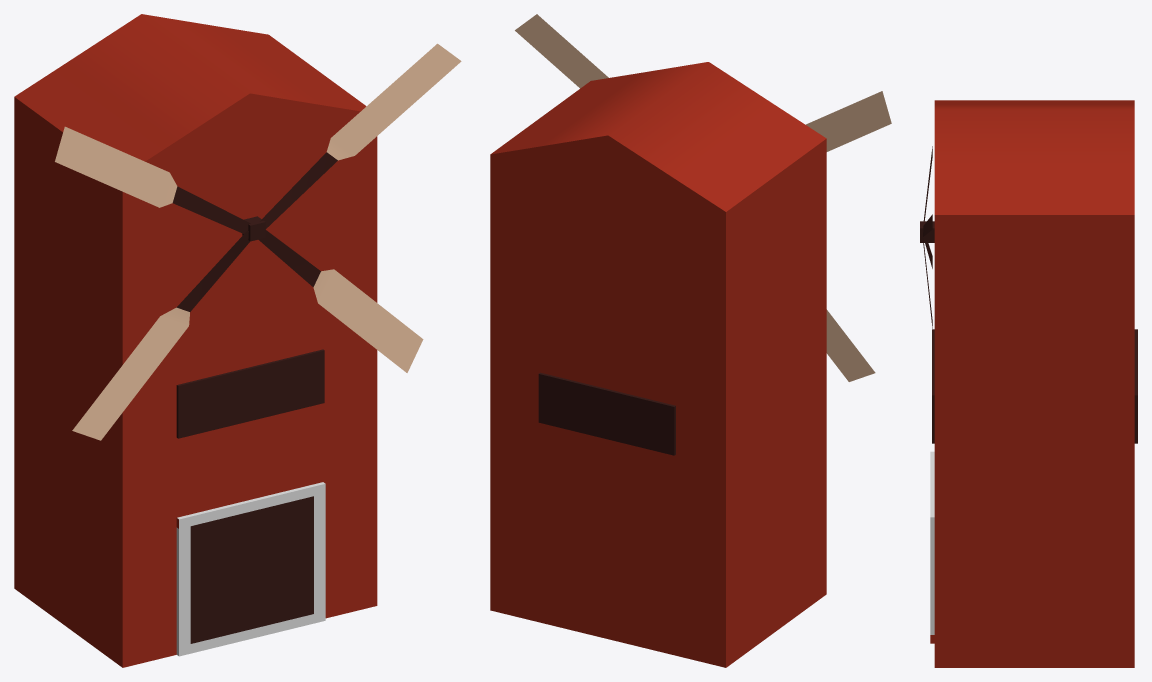
The model's file is barn.fbx.
3 renders of one model, left to right at view 1: azimuth 30°, elevation 25°; view 2: azimuth 150°, elevation 25°; view 3: azimuth 270°, elevation 25°, orthographic. The views are drawn at different scales.
Parts seen in each view (by area): view 1: Plane; view 2: Plane; view 3: Plane.
Part boxes in pixels (left/top/right/bottom): Plane: left=14, top=14, right=461, bottom=667; Plane: left=490, top=14, right=891, bottom=667; Plane: left=920, top=100, right=1137, bottom=667.
Size of the model in its own units: 714 by 934 by 359.
